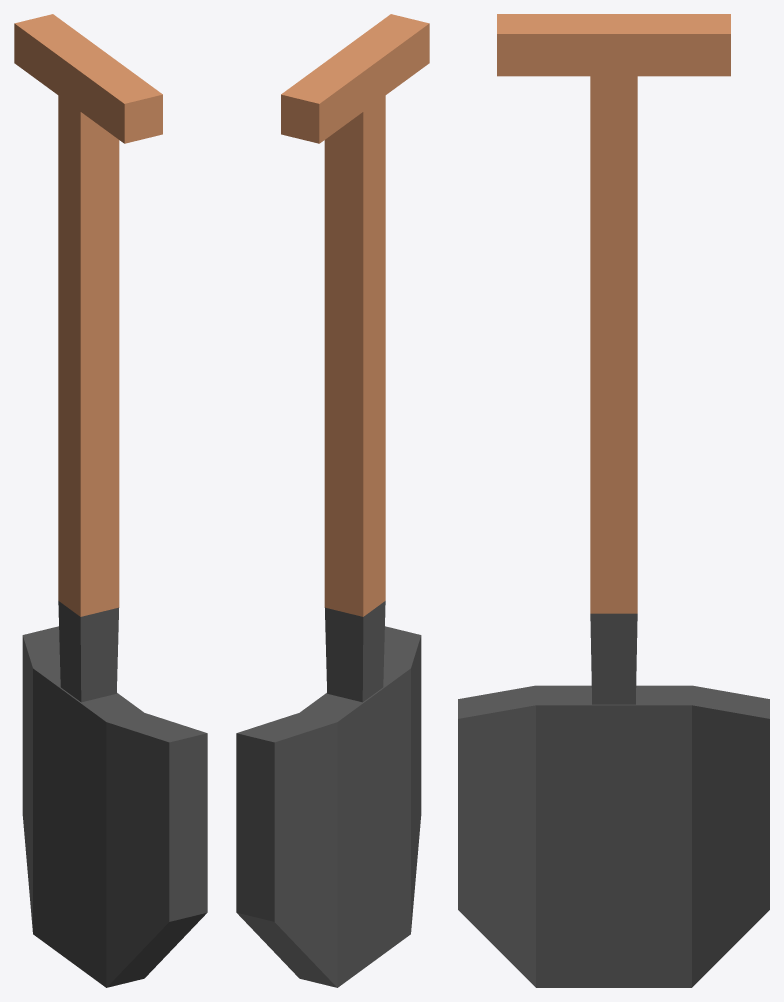
The model's file is Shovel_v2.fbx.
3 renders of one model, left to right at view 1: azimuth 30°, elevation 25°; view 2: azimuth 150°, elevation 25°; view 3: azimuth 270°, elevation 25°, orthographic. The views are drawn at different scales.
Parts seen in each view (by area): view 1: Shovel_v2; view 2: Shovel_v2; view 3: Shovel_v2.
Boxes of the visible parts, left/top/right/bottom form: Shovel_v2: left=14, top=14, right=207, bottom=987; Shovel_v2: left=236, top=14, right=429, bottom=987; Shovel_v2: left=458, top=14, right=769, bottom=987.
Size of the model in its own units: 10.18 by 135 by 40.
